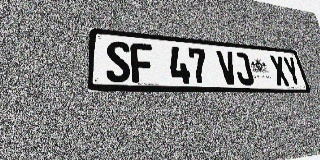4: (167, 46, 191, 84)
7: (187, 48, 210, 84)
F: (130, 43, 155, 83)
J: (232, 52, 255, 85)
S: (106, 40, 131, 83)
V: (216, 50, 239, 85)
X: (269, 55, 290, 86)
Y: (282, 56, 303, 86)
